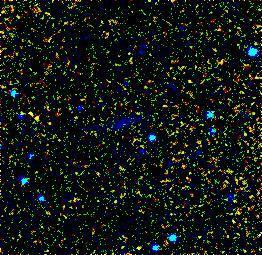star: (18, 102, 48, 132)
